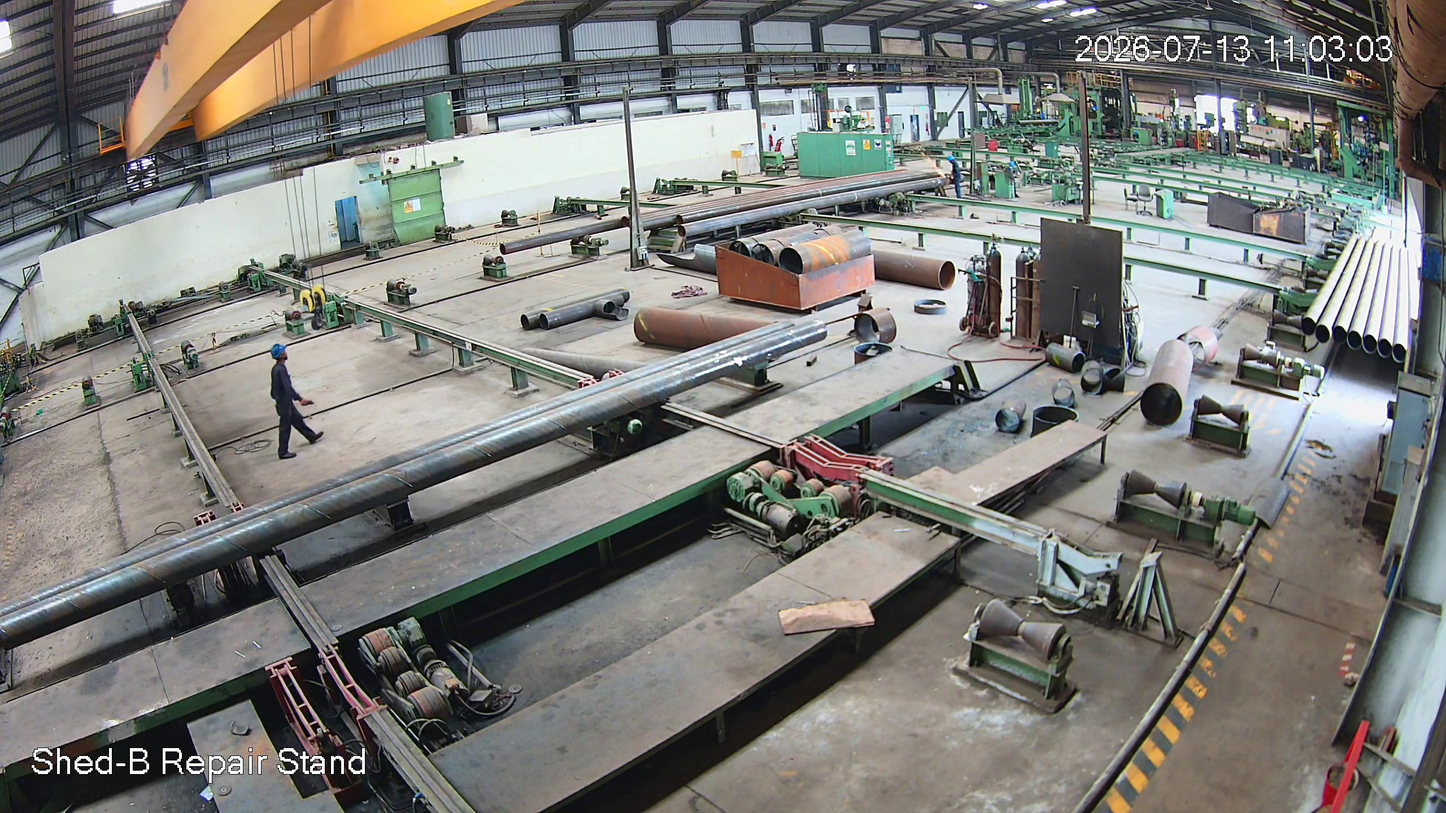Helmet: (269, 342, 296, 368)
Person: (259, 345, 321, 458)
